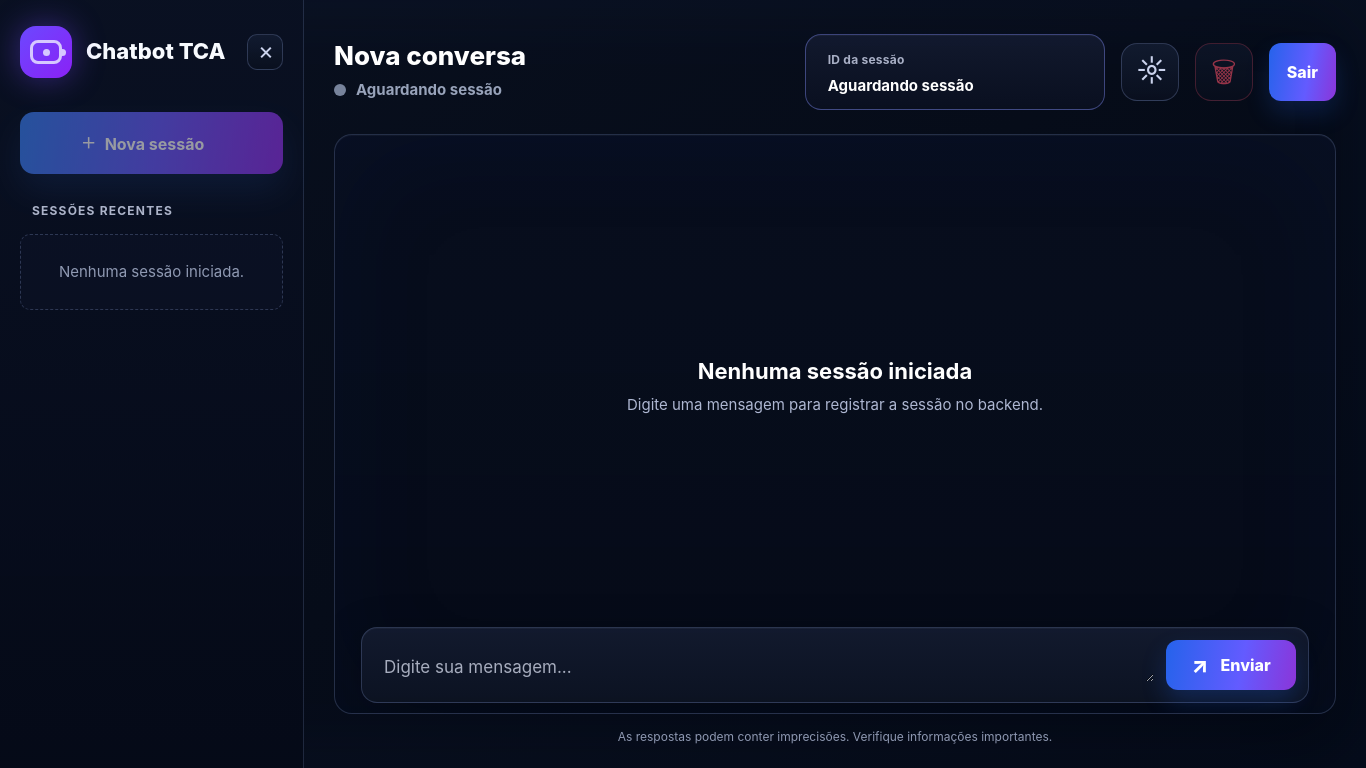
Scenario: ChatBox › clears auth and chat state on logout
What coordinates should you click on to do the following:
click the button "Sair"
I would click on:
 (1302, 72)
Its box is [1269,43,1336,101].
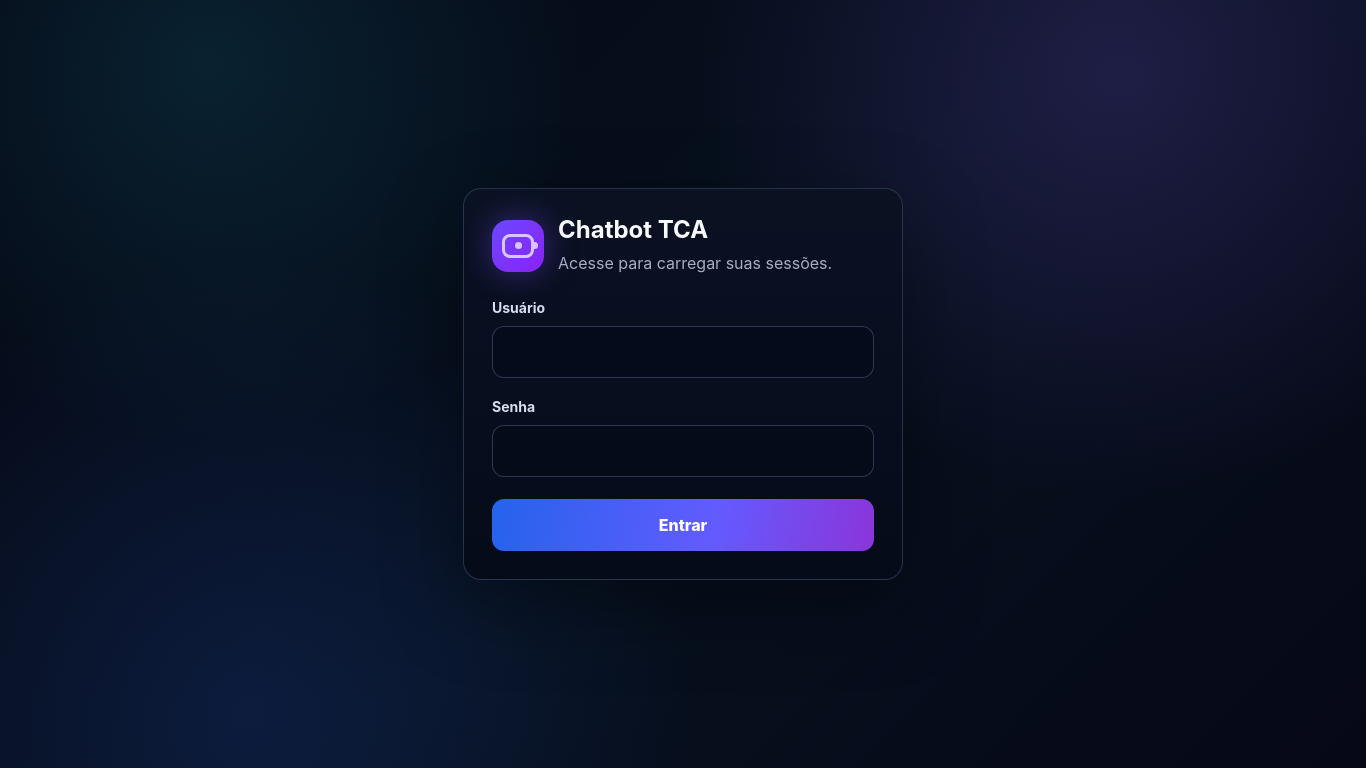
Now the text "Acesse para carregar suas sessões." is shown, box [558,251,874,275]
